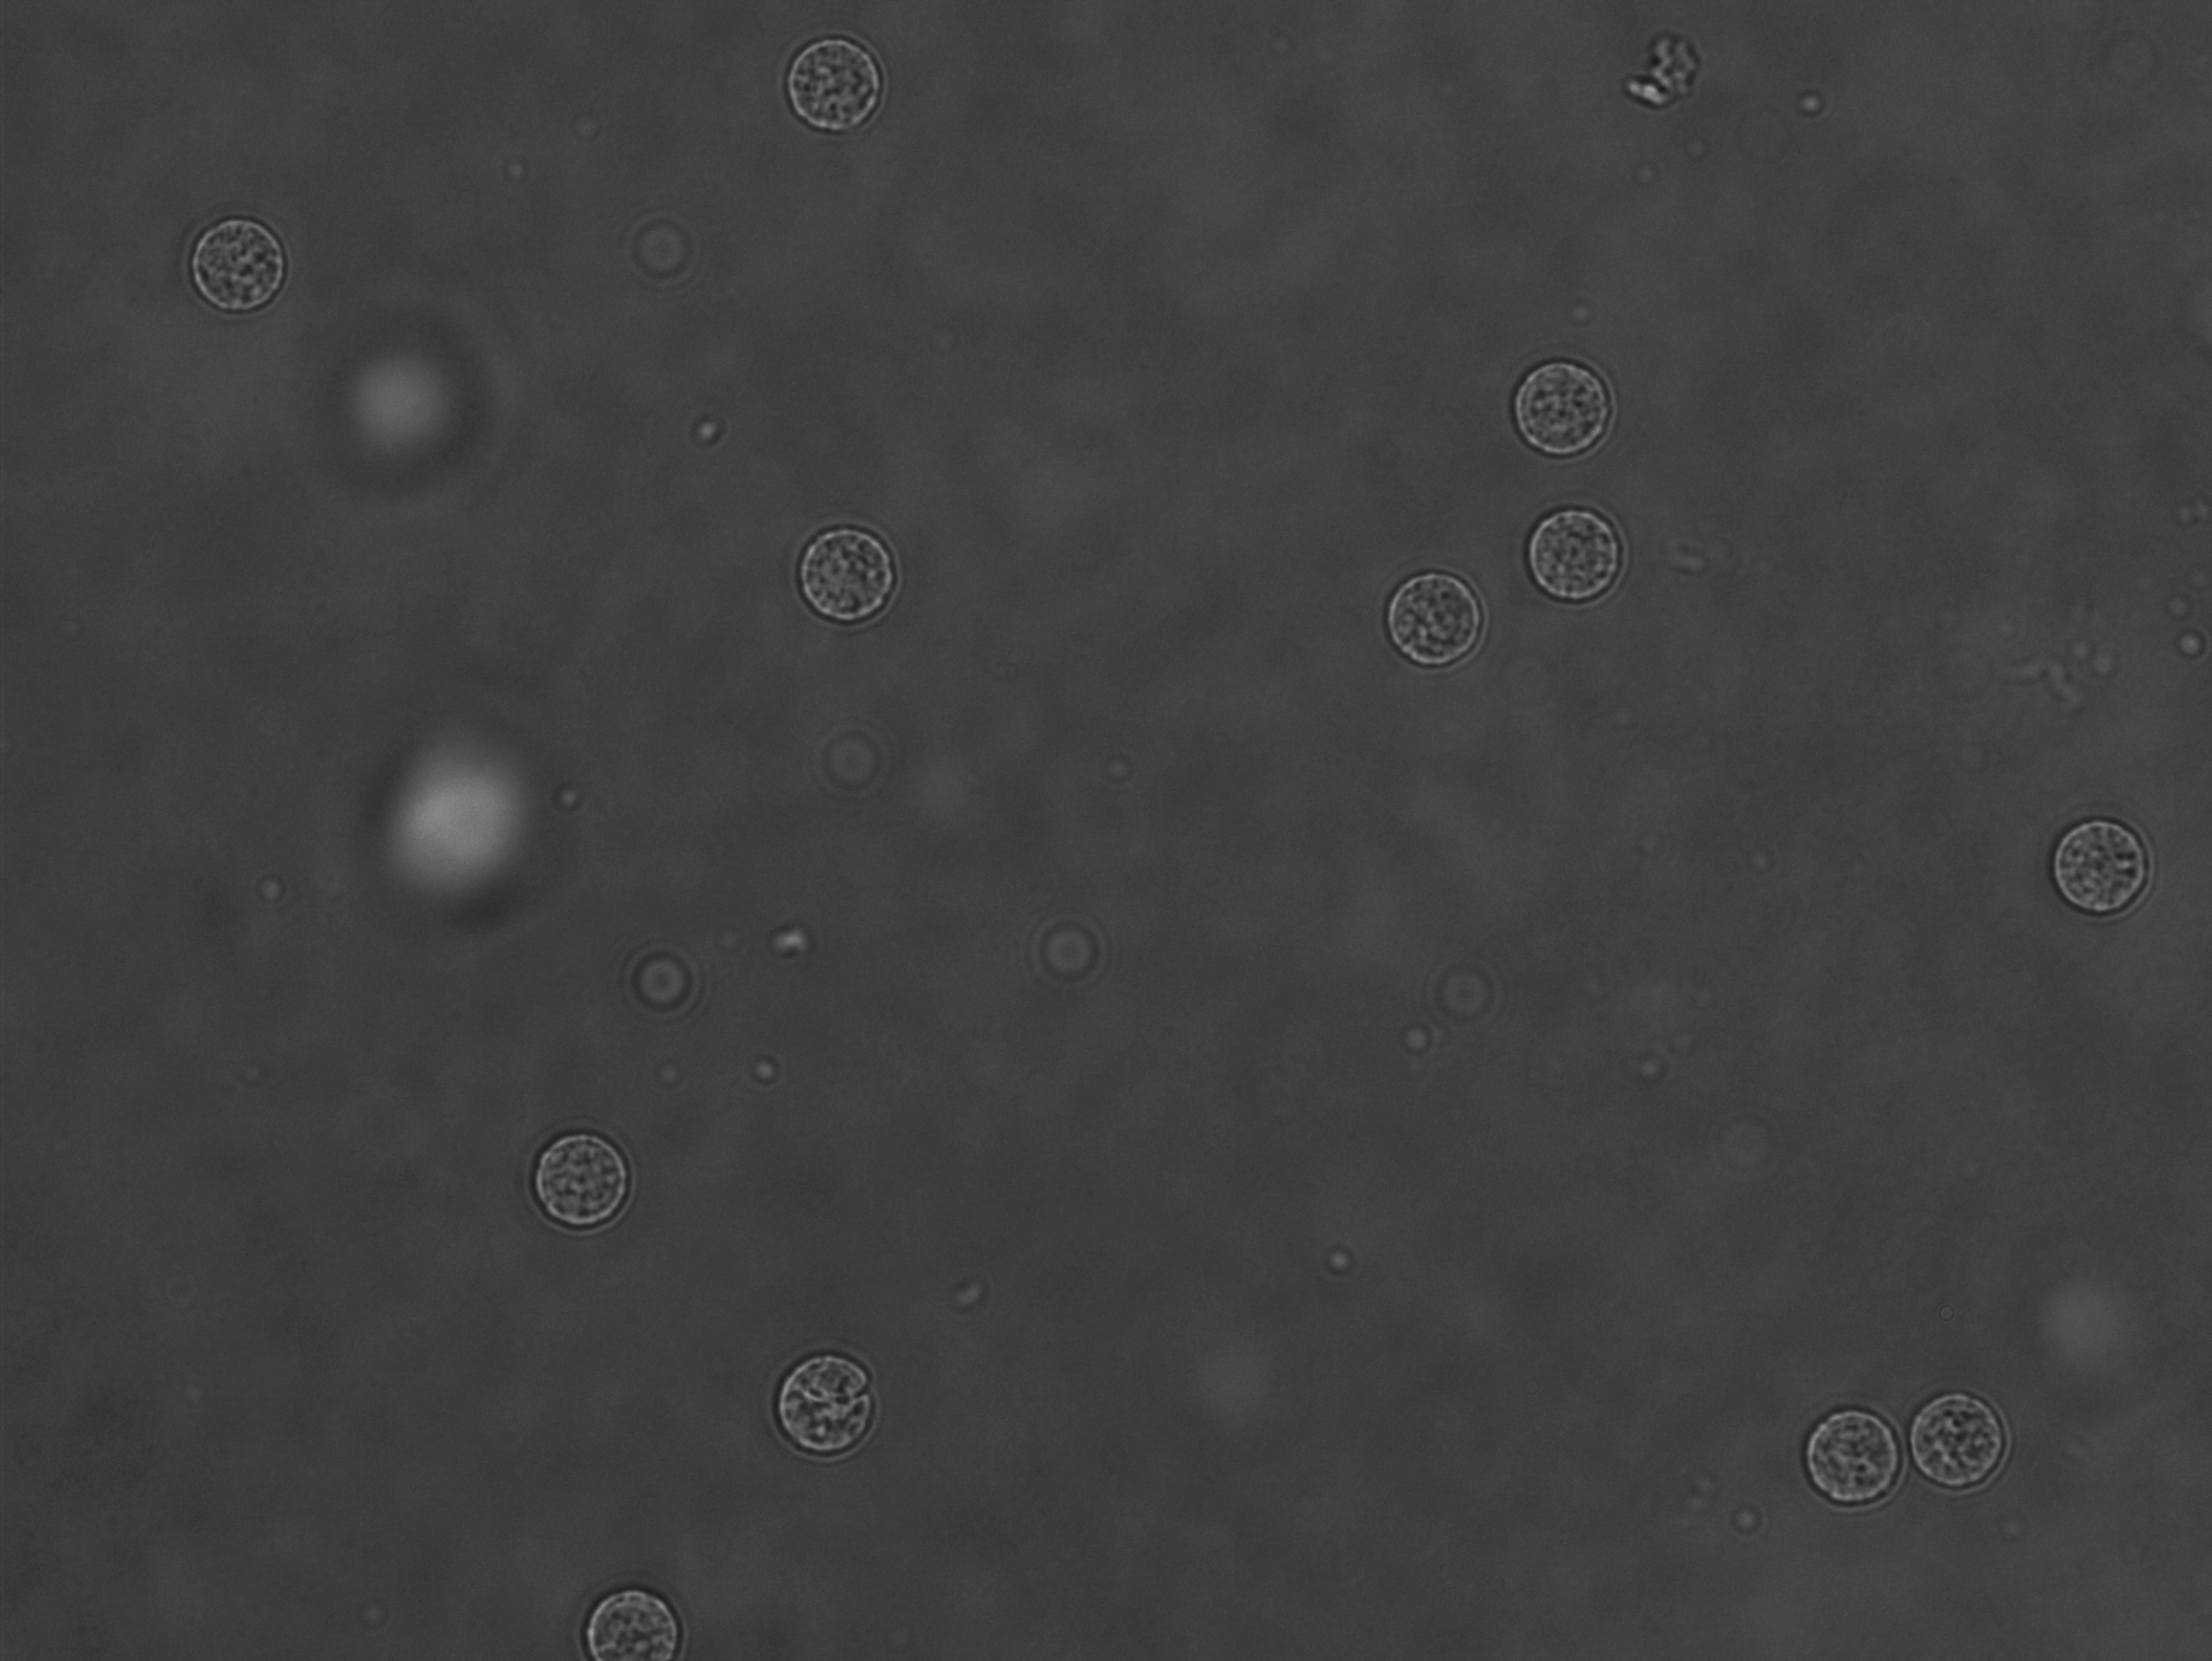depth:0: (780, 502, 914, 649), (1354, 558, 1504, 689), (755, 1329, 893, 1467), (776, 14, 907, 159), (1903, 1350, 2017, 1516), (508, 1113, 649, 1246), (1493, 345, 1633, 471), (1783, 1389, 1908, 1525), (1514, 494, 1652, 614), (180, 197, 302, 328), (2039, 794, 2151, 933), (556, 1574, 712, 1661)
